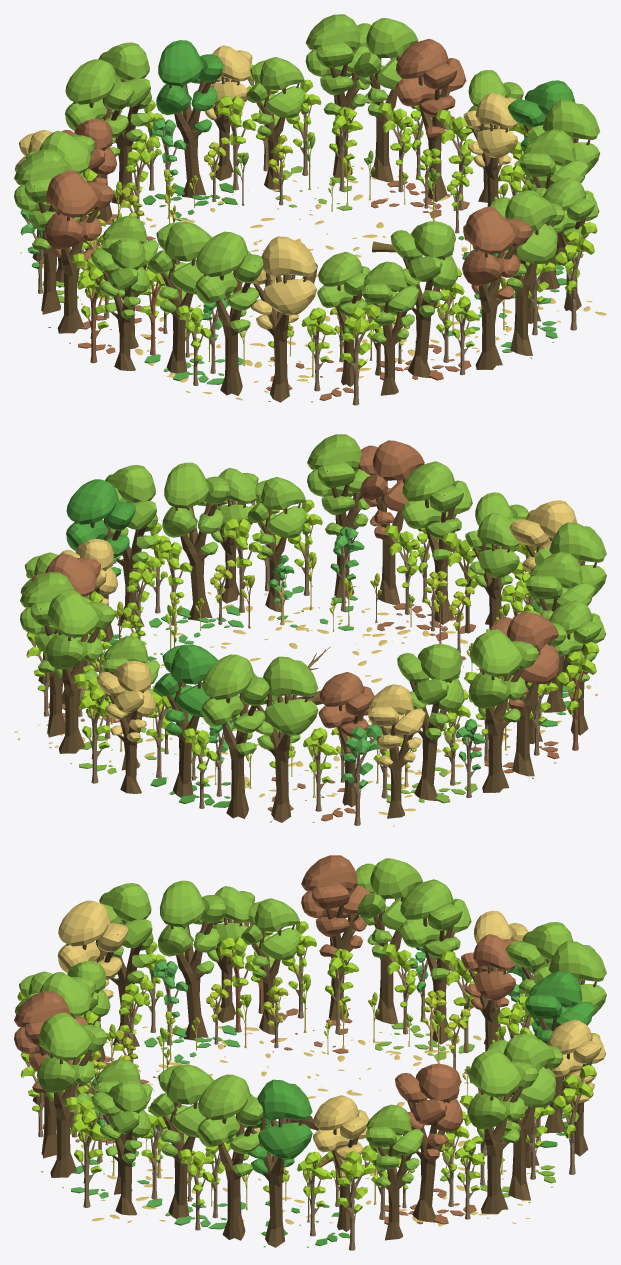
Rendered from thegreatclearingcolor.glb.
3 renders of one model, top to bottom at view 1: azimuth 30°, elevation 25°; view 2: azimuth 150°, elevation 25°; view 3: azimuth 270°, elevation 25°, orthographic.
Visible parts, largest first — view 1: Ulme_Big_Laub_Retopology.033, Ulme_Big_Laub_Retopology.008, Ulme_Big_Laub_Retopology.031, Ulme_Big_Laub_Retopology.019, Ulme_Big_Laub_Retopology, Ulme_Big_Laub_Retopology.017, Ulme_Big_Laub_Retopology.009, Ulme_Big_Laub_Retopology.020, Ulme_Big_Laub_Retopology.015, Ulme_Big_Laub_Retopology.030, Ulme_Big_Laub_Retopology.032, Ulme_Big_Laub_Retopology.013 (+54 smaller); view 2: Ulme_Big_Laub_Retopology.021, Ulme_Big_Laub_Retopology.024, Ulme_Big_Laub_Retopology.009, Ulme_Big_Laub_Retopology.017, Ulme_Big_Laub_Retopology.013, Ulme_Big_Laub_Retopology.025, Ulme_Big_Laub_Retopology.026, Ulme_Big_Laub_Retopology.015, Ulme_Big_Laub_Retopology.010, Ulme_Big_Laub_Retopology.008, Ulme_Big_Laub_Retopology.020, Ulme_Big_Laub_Retopology.022 (+56 smaller); view 3: Ulme_Big_Laub_Retopology, Ulme_Big_Laub_Retopology.030, Ulme_Big_Laub_Retopology.025, Ulme_Big_Laub_Retopology.027, Ulme_Big_Laub_Retopology.013, Ulme_Big_Laub_Retopology.031, Ulme_Big_Laub_Retopology.010, Ulme_Big_Laub_Retopology.032, Ulme_Big_Laub_Retopology.019, Ulme_Big_Laub_Retopology.024, Ulme_Big_Laub_Retopology.026, Ulme_Big_Laub_Retopology.020 (+57 smaller).
Boxes of the visible parts, x1=… form: Ulme_Big_Laub_Retopology.033: x1=195, y1=231, x2=263, y2=331; Ulme_Big_Laub_Retopology.008: x1=462, y1=206, x2=532, y2=299; Ulme_Big_Laub_Retopology.031: x1=395, y1=39, x2=466, y2=137; Ulme_Big_Laub_Retopology.019: x1=250, y1=236, x2=316, y2=329; Ulme_Big_Laub_Retopology: x1=44, y1=170, x2=114, y2=261; Ulme_Big_Laub_Retopology.017: x1=305, y1=14, x2=370, y2=114; Ulme_Big_Laub_Retopology.009: x1=390, y1=221, x2=457, y2=316; Ulme_Big_Laub_Retopology.020: x1=156, y1=40, x2=223, y2=132; Ulme_Big_Laub_Retopology.015: x1=65, y1=59, x2=134, y2=156; Ulme_Big_Laub_Retopology.030: x1=353, y1=18, x2=418, y2=116; Ulme_Big_Laub_Retopology.032: x1=148, y1=221, x2=211, y2=312; Ulme_Big_Laub_Retopology.013: x1=490, y1=191, x2=557, y2=289; Ulme_Big_Laub_Retopology.021: x1=201, y1=654, x2=269, y2=754; Ulme_Big_Laub_Retopology.024: x1=468, y1=629, x2=539, y2=722; Ulme_Big_Laub_Retopology.009: x1=401, y1=461, x2=472, y2=560; Ulme_Big_Laub_Retopology.017: x1=45, y1=590, x2=115, y2=681; Ulme_Big_Laub_Retopology.013: x1=307, y1=434, x2=370, y2=534; Ulme_Big_Laub_Retopology.025: x1=397, y1=643, x2=464, y2=739; Ulme_Big_Laub_Retopology.026: x1=162, y1=462, x2=229, y2=554; Ulme_Big_Laub_Retopology.015: x1=256, y1=656, x2=318, y2=749; Ulme_Big_Laub_Retopology.010: x1=66, y1=479, x2=135, y2=576; Ulme_Big_Laub_Retopology.008: x1=358, y1=440, x2=424, y2=538; Ulme_Big_Laub_Retopology.020: x1=154, y1=644, x2=217, y2=735; Ulme_Big_Laub_Retopology.022: x1=96, y1=661, x2=155, y2=742; Ulme_Big_Laub_Retopology: x1=301, y1=855, x2=370, y2=956; Ulme_Big_Laub_Retopology.030: x1=467, y1=1049, x2=538, y2=1142; Ulme_Big_Laub_Retopology.025: x1=399, y1=879, x2=471, y2=979; Ulme_Big_Laub_Retopology.027: x1=197, y1=1074, x2=263, y2=1175; Ulme_Big_Laub_Retopology.013: x1=36, y1=1012, x2=108, y2=1104; Ulme_Big_Laub_Retopology.031: x1=395, y1=1063, x2=462, y2=1160; Ulme_Big_Laub_Retopology.010: x1=243, y1=1079, x2=312, y2=1173; Ulme_Big_Laub_Retopology.032: x1=158, y1=880, x2=225, y2=973; Ulme_Big_Laub_Retopology.019: x1=57, y1=900, x2=128, y2=998; Ulme_Big_Laub_Retopology.024: x1=356, y1=858, x2=422, y2=957; Ulme_Big_Laub_Retopology.026: x1=149, y1=1064, x2=214, y2=1156; Ulme_Big_Laub_Retopology.020: x1=525, y1=970, x2=595, y2=1044.
Size of the model in its own units: 2.67 by 0.7928 by 2.63.
